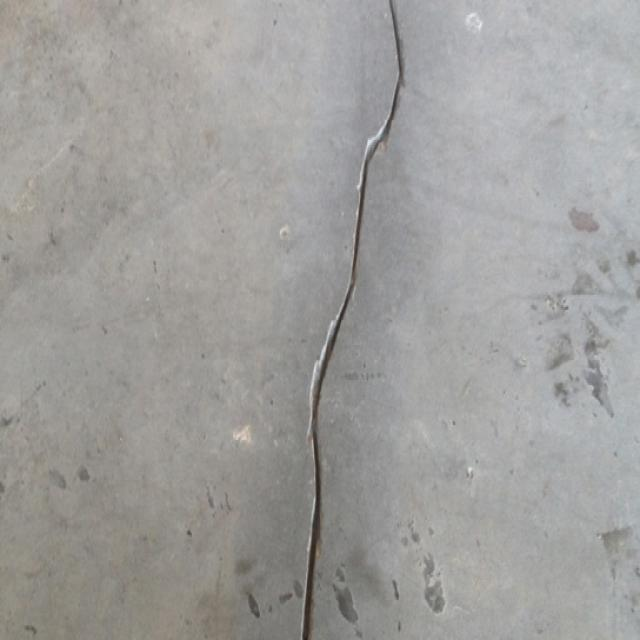crack: (296, 0, 411, 637)
